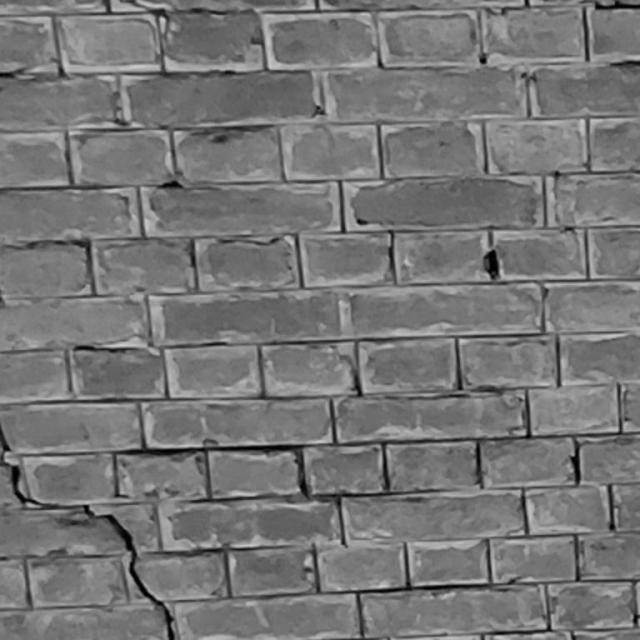crack: (1, 426, 174, 640)
